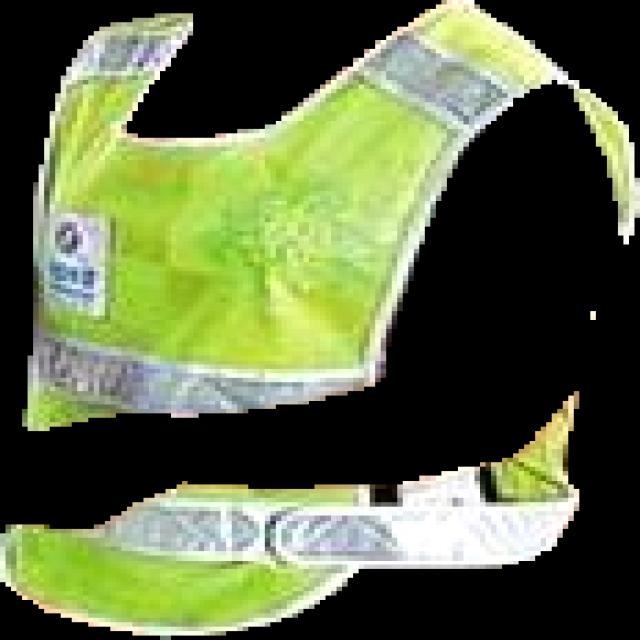Colete: (23, 0, 639, 431)
